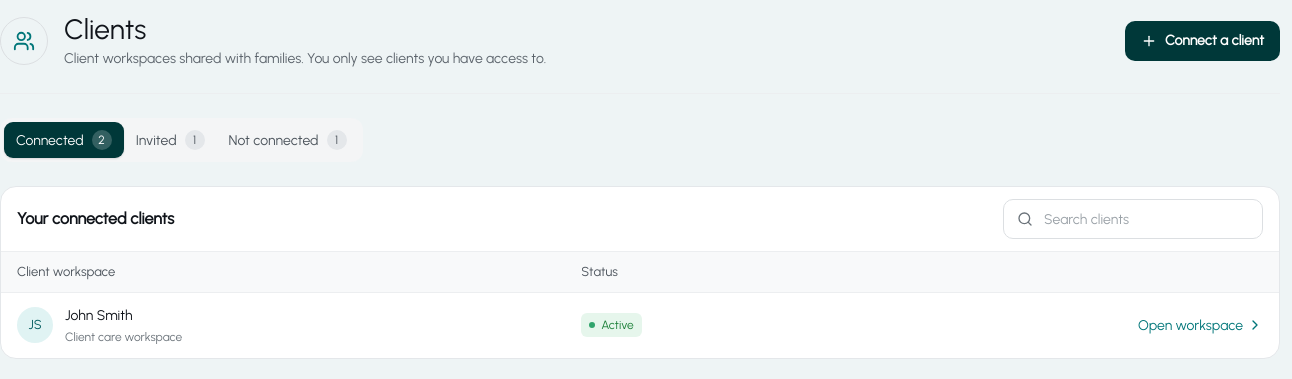
Test: counts the client tabs and lists workspaces with invitations still waiting
Expected: the text "John Smith" is shown, [65,306,133,324]
Expected: the button "Connected 2" is shown, [4,122,124,158]
Click the button "Invited 1" at (170, 140), box [124,122,217,158]
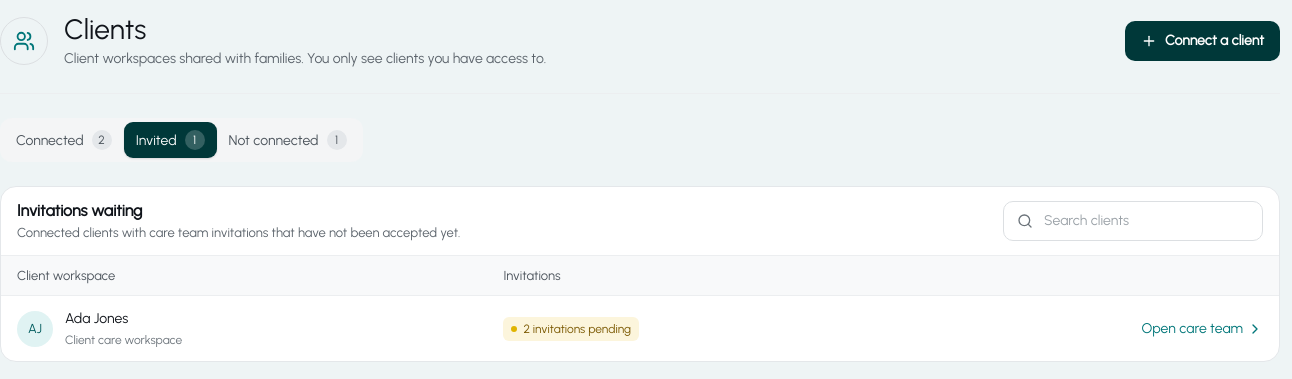
Result: the text "2 invitations pending" is shown at [503,316,639,340]
Result: the text "John Smith" is gone
